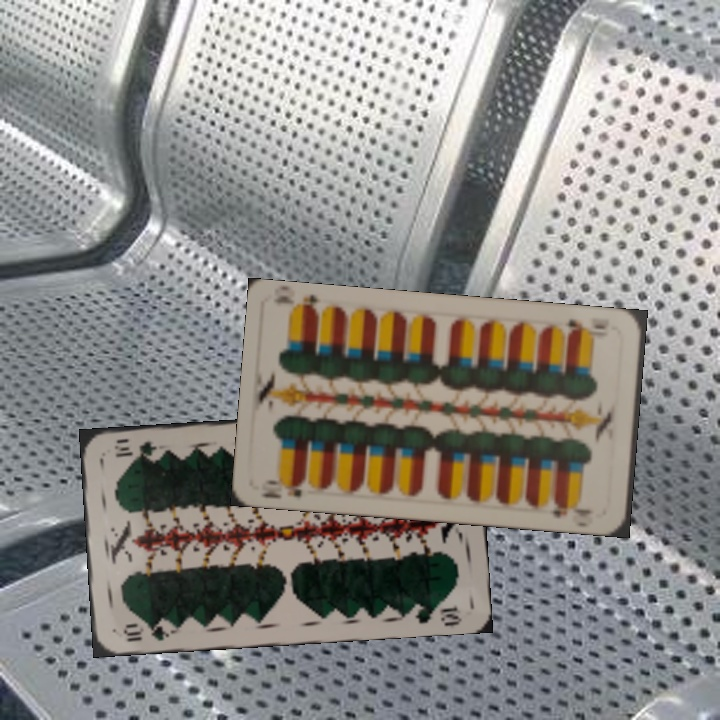E10: (257, 474, 308, 501), (564, 315, 610, 340)
G10: (119, 617, 176, 645)
